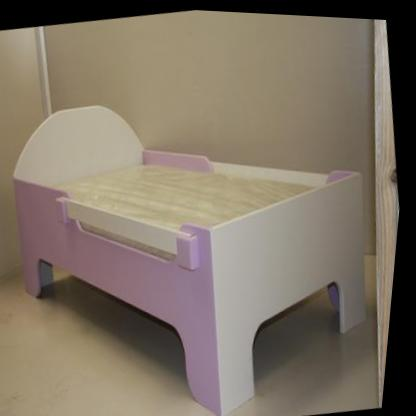Bed: (15, 104, 372, 413)
